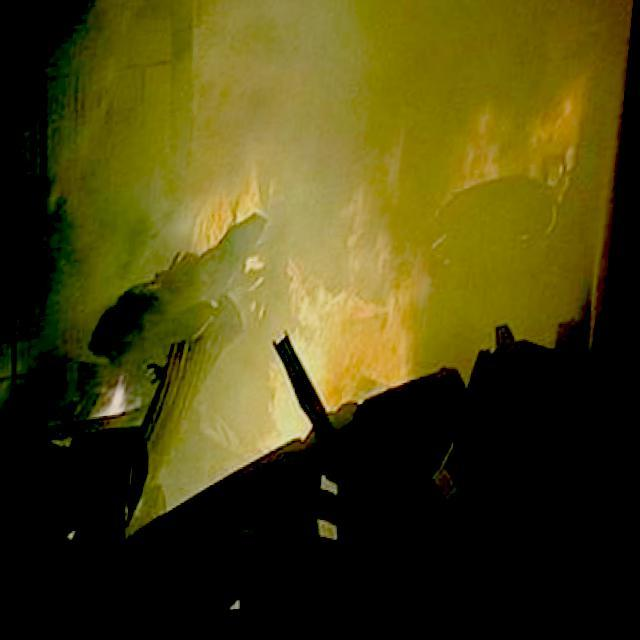Fire: (175, 146, 444, 458), (452, 88, 586, 222)
